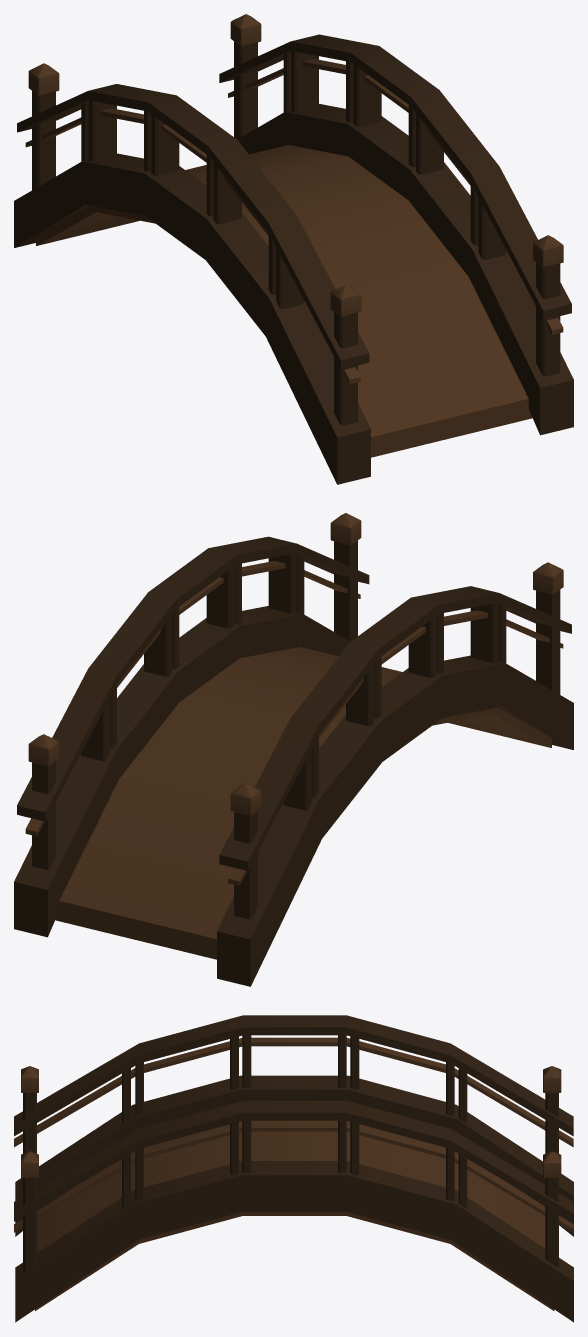
The model's file is bridge01.fbx.
The picture shows the model from 3 angles, top to bottom: view 1: azimuth 30°, elevation 25°; view 2: azimuth 150°, elevation 25°; view 3: azimuth 270°, elevation 25°; orthographic projection. The views are drawn at different scales.
Parts seen in each view (by area): view 1: bridge01; view 2: bridge01; view 3: bridge01.
Boxes of the visible parts, box(x1,y1,x2,y2) form: bridge01: box(14, 14, 573, 484); bridge01: box(14, 513, 573, 986); bridge01: box(14, 1015, 573, 1322).
Bounding box in the file's own units: 305 × 297 × 722.
